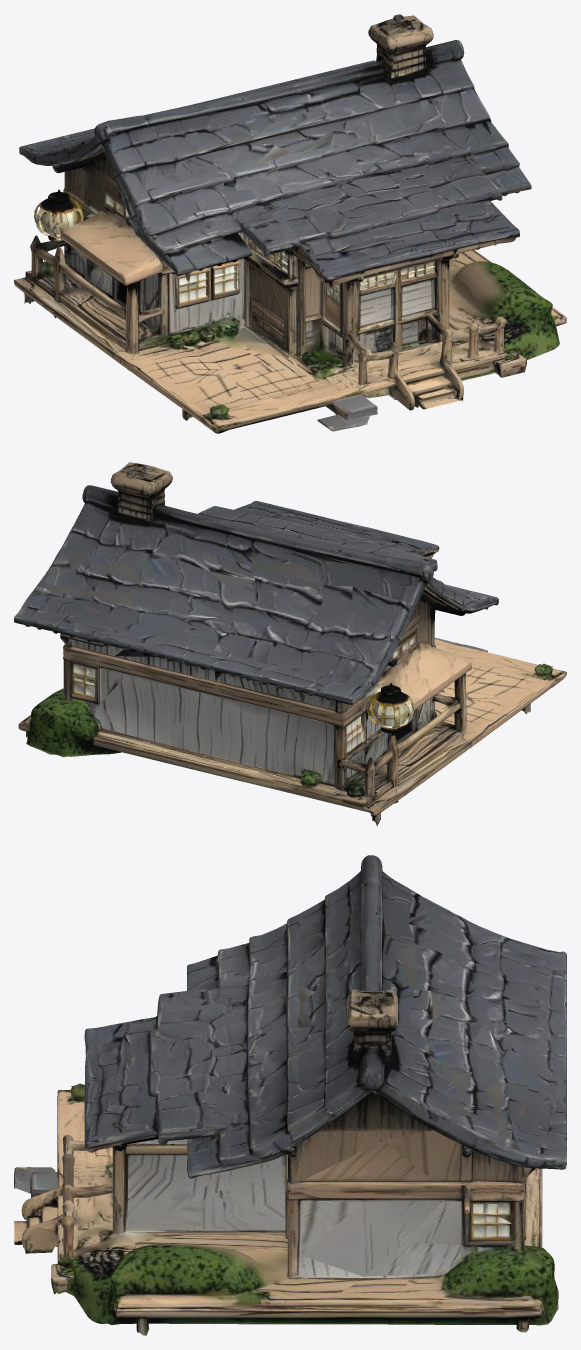
The model's file is bld_home.glb.
3 renders of one model, top to bottom at view 1: azimuth 30°, elevation 25°; view 2: azimuth 150°, elevation 25°; view 3: azimuth 270°, elevation 25°, orthographic. The views are drawn at different scales.
Visible parts, largest first — view 1: node_0; view 2: node_0; view 3: node_0.
Part boxes in pixels (box(x1,y1,x2,y2)): node_0: box(14, 14, 566, 433); node_0: box(14, 462, 566, 825); node_0: box(14, 855, 566, 1335).
Size of the model in its own units: 6.63 by 4.18 by 6.83.
Materials: 1 (1 with a texture image).
